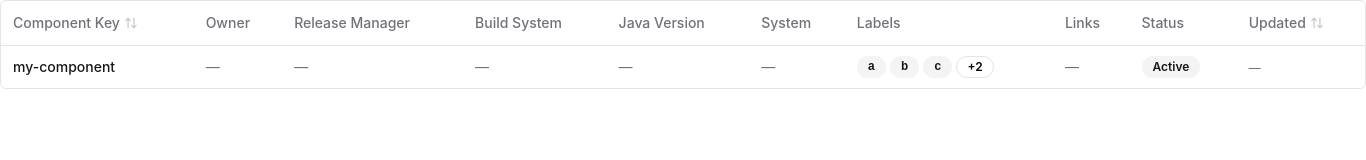
Test: ComponentTable › Wave 2 — Labels column › clicking "show less" collapses back to the first 3 labels and restores the +N toggle
The image size is (1366, 160).
Click the button named "show all 5 labels". click: click(975, 66)
box: x1=956 y1=56 x2=994 y2=78
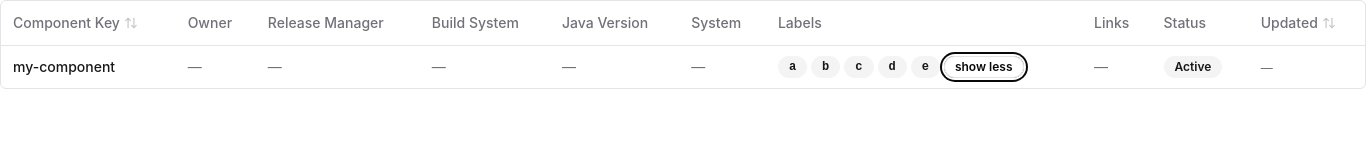
expect the text "d" is shown: met, box x1=878 y1=56 x2=907 y2=78
Click the button with aria-label "show fewer labels". click: click(984, 66)
box: x1=944 y1=56 x2=1024 y2=78
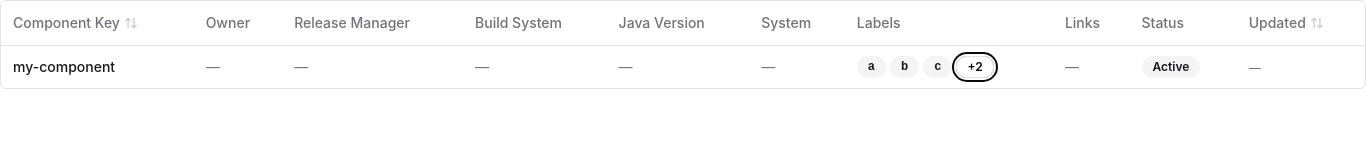
expect the button named "show all 5 labels" is collapsed: met, box x1=956 y1=56 x2=994 y2=78
